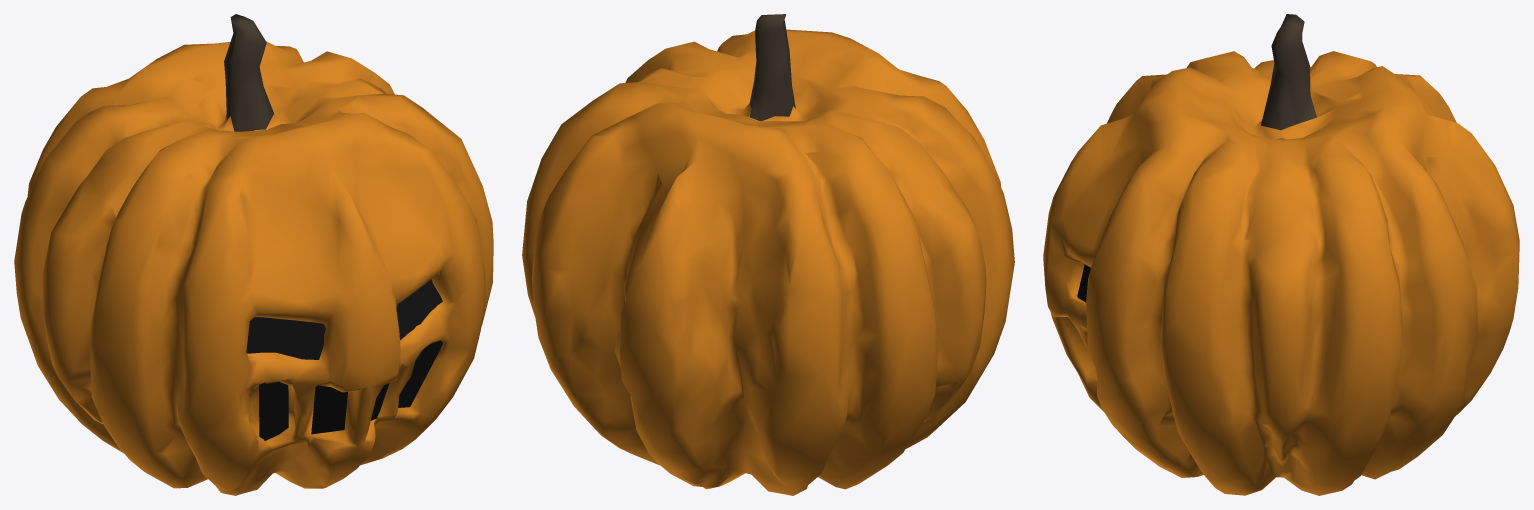
Rendered from pumpkin-closedmouth.fbx.
The picture shows the model from 3 angles, left to right: view 1: azimuth 30°, elevation 25°; view 2: azimuth 150°, elevation 25°; view 3: azimuth 270°, elevation 25°; orthographic projection. The views are drawn at different scales.
Visible parts, largest first — view 1: Sculpt, Sculpt.001, Plane.001, Plane.002, Plane.005, Plane, Plane.003; view 2: Sculpt, Sculpt.001; view 3: Sculpt, Sculpt.001.
Boxes of the visible parts, x1,y1,x2,y2 form: Sculpt: (14,41,493,495); Sculpt.001: (224,14,273,131); Plane.001: (246,317,325,359); Plane.002: (259,381,288,440); Plane.005: (311,385,347,434); Plane: (396,279,442,340); Plane.003: (398,340,442,407); Sculpt: (522,29,1014,495); Sculpt.001: (750,14,795,120); Sculpt: (1043,51,1519,495); Sculpt.001: (1261,14,1316,130).
Bounding box in the file's own units: 200 × 201 × 200.
